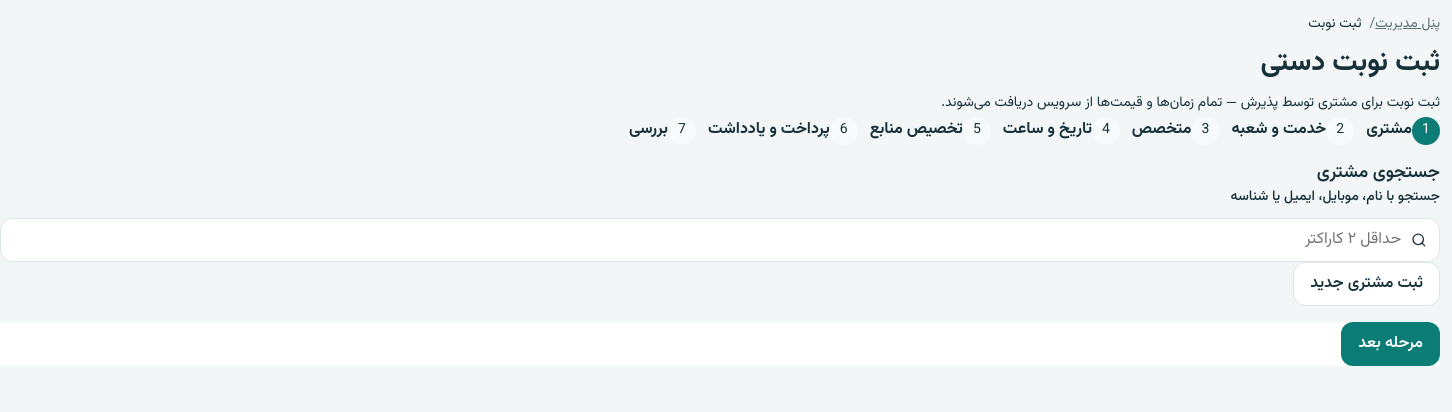
Test: admin manual booking flow (current Backend contract) › searches Backend customers by the search parameter and lists them by name
Type "سارا" into the dropdown named "جستجوی مشتری". click: (708, 240)
box: [13,225,1403,256]
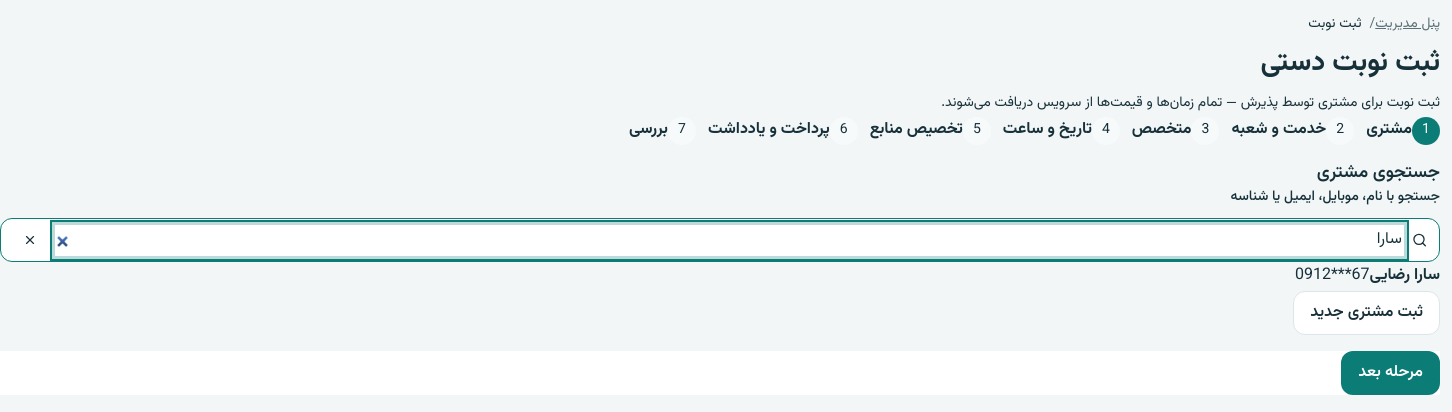
Expected: the option "سارا رضایی 0912***67" is shown, [1295,262,1440,291]
